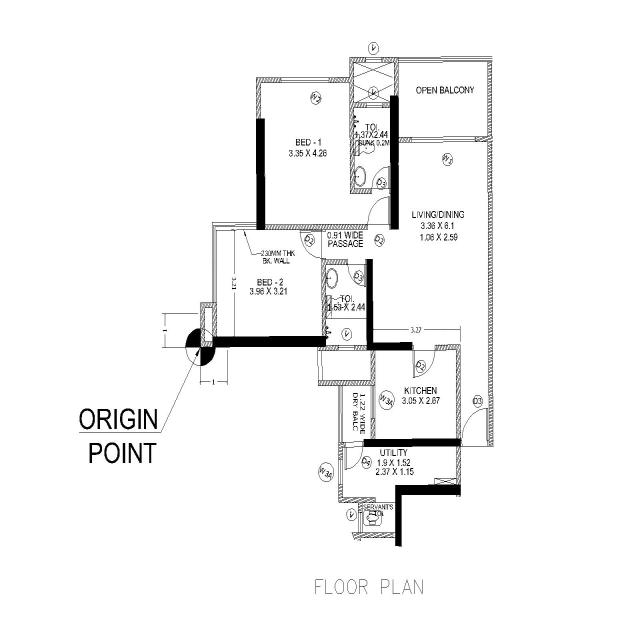Column: (387, 95, 403, 232), (254, 118, 268, 232), (212, 336, 328, 348), (362, 437, 464, 449), (366, 258, 374, 350), (394, 484, 462, 494), (396, 482, 402, 548), (371, 342, 414, 351)
Door: (460, 439, 490, 447), (321, 227, 327, 261), (346, 258, 367, 266), (344, 440, 364, 448), (365, 224, 391, 230), (413, 346, 436, 352)
Ventilator: (364, 56, 384, 64), (336, 344, 356, 352), (366, 101, 384, 109), (357, 510, 363, 533)
Window: (409, 135, 476, 143), (279, 76, 332, 84), (370, 381, 376, 422), (337, 458, 345, 487)
